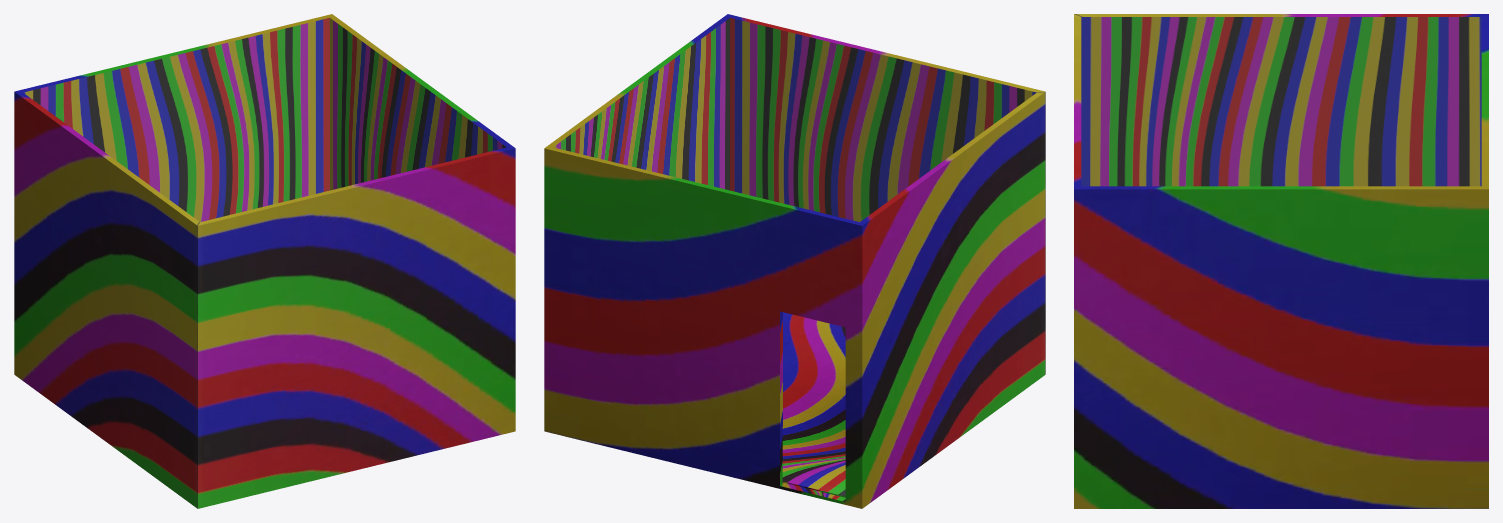
Rendered from salle_2.glb.
The picture shows the model from 3 angles, left to right: view 1: azimuth 30°, elevation 25°; view 2: azimuth 150°, elevation 25°; view 3: azimuth 270°, elevation 25°; orthographic projection. The views are drawn at different scales.
Parts seen in each view (by area): view 1: Cube; view 2: Cube; view 3: Cube.
Part boxes in pixels (<box>): Cube: <box>14,14,515,508</box>; Cube: <box>544,14,1045,508</box>; Cube: <box>1074,14,1488,508</box>.
Bounding box in the file's own units: 9.69 × 8.25 × 9.69.
Materials: 2 (2 with a texture image).
